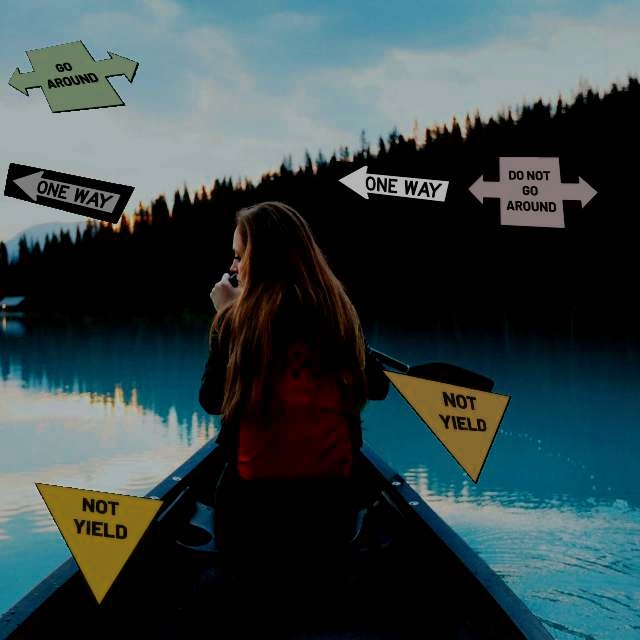DO_NOT_GO_AROUND: (467, 156, 599, 229)
GO_AROUND: (7, 40, 139, 113)
NOT_YIELD: (34, 482, 166, 607), (379, 368, 511, 484)
ONE_WAY_ left: (3, 162, 135, 224), (329, 160, 461, 212)
